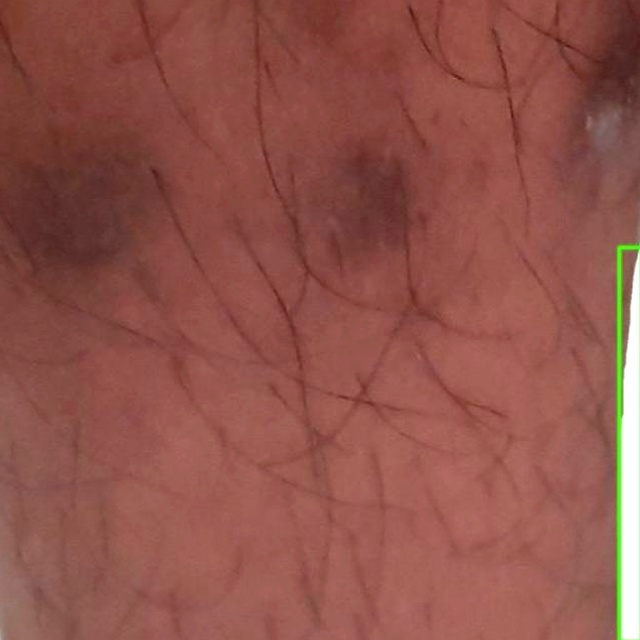Contact Dermatitis: (619, 247, 639, 639)
